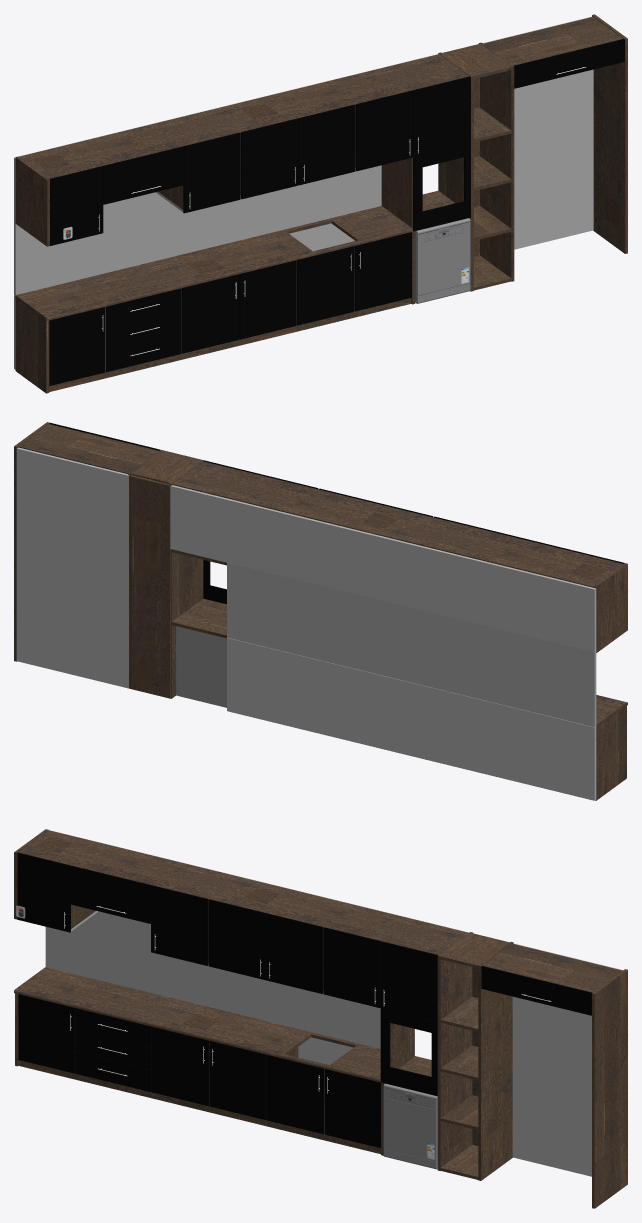
The model's file is BigTriplexHouseVilla.glb.
3 views of the same model, one above another, from view 1: azimuth 30°, elevation 25°; view 2: azimuth 150°, elevation 25°; view 3: azimuth 330°, elevation 25° (orthographic).
Visible parts, largest first — view 1: SM_CupboardBody_8_StaticMeshComponent0, BP_CupboardDoor_826_StaticMeshComponent0, SM_Dishwasher_68_StaticMeshComponent0; view 2: SM_CupboardBody_8_StaticMeshComponent0, SM_Dishwasher_68_StaticMeshComponent0, BP_CupboardDoor_826_StaticMeshComponent0; view 3: SM_CupboardBody_8_StaticMeshComponent0, BP_CupboardDoor_826_StaticMeshComponent0, SM_Dishwasher_68_StaticMeshComponent0.
Part boxes in pixels (box(x1,y1,x2,y2)): SM_CupboardBody_8_StaticMeshComponent0: box(14, 14, 627, 393); BP_CupboardDoor_826_StaticMeshComponent0: box(49, 39, 624, 385); SM_Dishwasher_68_StaticMeshComponent0: box(415, 218, 470, 303); SM_CupboardBody_8_StaticMeshComponent0: box(14, 422, 627, 800); SM_Dishwasher_68_StaticMeshComponent0: box(176, 626, 226, 707); BP_CupboardDoor_826_StaticMeshComponent0: box(49, 422, 624, 604); SM_CupboardBody_8_StaticMeshComponent0: box(14, 829, 627, 1208); BP_CupboardDoor_826_StaticMeshComponent0: box(17, 852, 592, 1148); SM_Dishwasher_68_StaticMeshComponent0: box(383, 1083, 437, 1169).
Bounding box in the file's own units: 6.17 × 2.18 × 0.7394.
7 materials, 3 textured.
